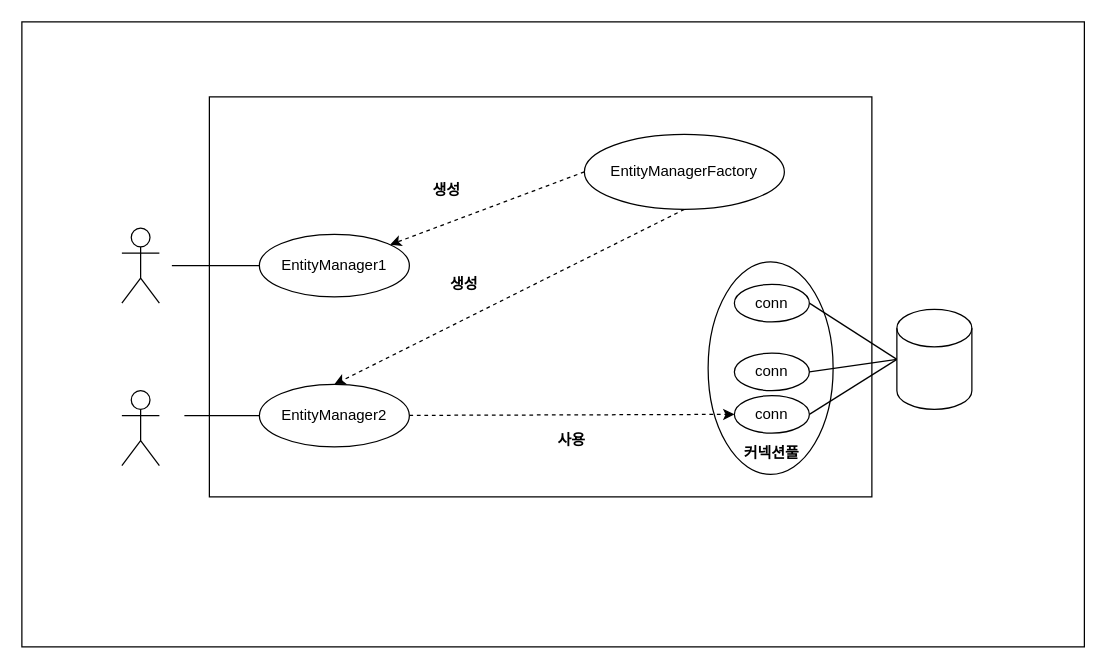
This 1106x669 diagram has some shape labels left out. The shapes that lost their labels are listed below. From the top down, each one's centre as x and y in pixels, then its label:
At point (140, 265): "요청1".
At point (934, 358): "DB".
At point (140, 427): "요청2".
